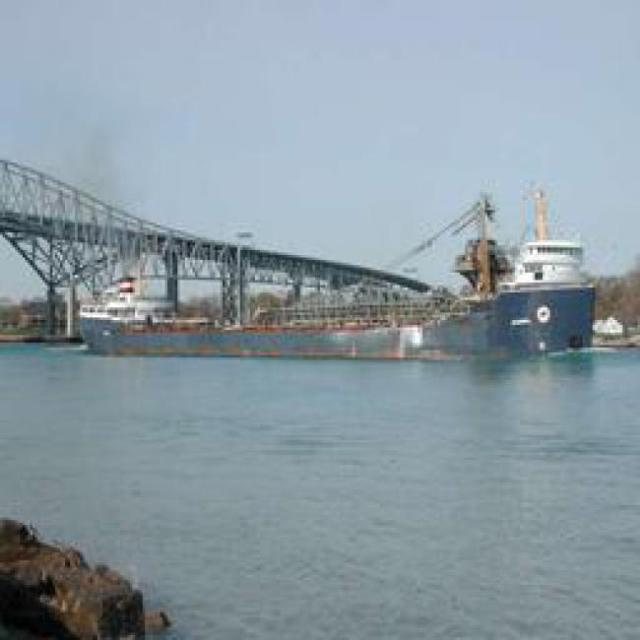boat: (66, 288, 611, 364)
